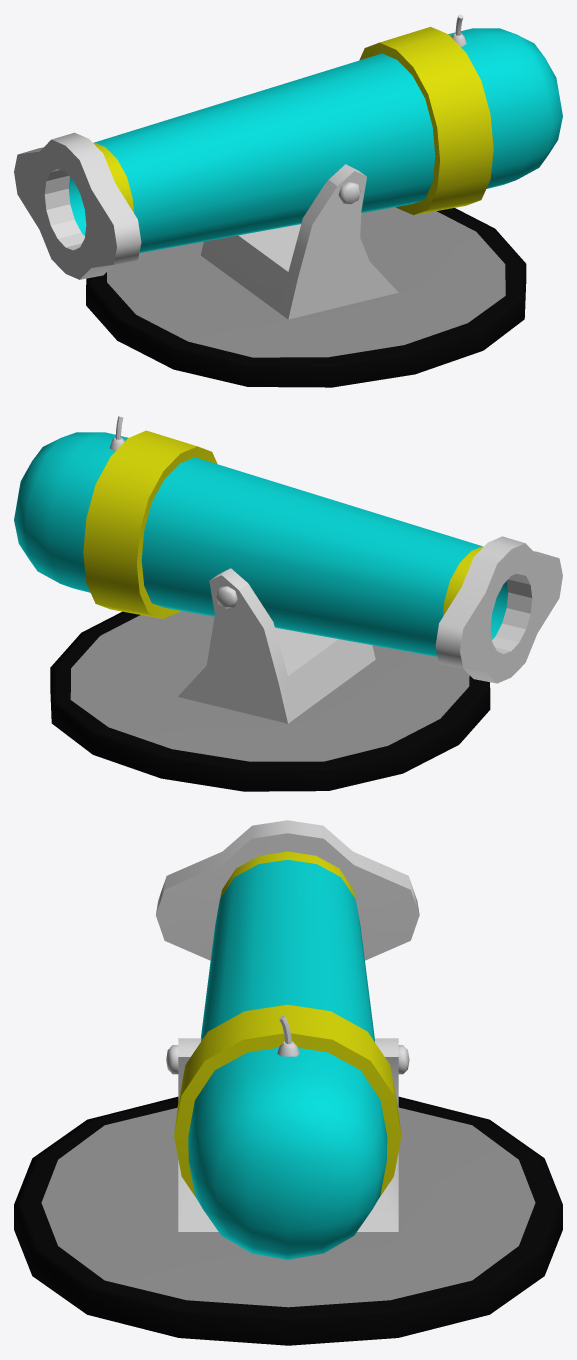
The model's file is GPE_Canon.fbx.
The picture shows the model from 3 angles, top to bottom: view 1: azimuth 30°, elevation 25°; view 2: azimuth 150°, elevation 25°; view 3: azimuth 270°, elevation 25°; orthographic projection. The views are drawn at different scales.
Parts seen in each view (by area): view 1: canon, SOL, FIXATION, chock; view 2: canon, SOL, FIXATION, chock; view 3: SOL, canon, chock, FIXATION.
Boxes of the visible parts, x1,y1,x2,y2 form: canon: (68,26,562,252); SOL: (86,207,526,387); FIXATION: (200,164,398,319); chock: (14,132,141,279); canon: (14,430,508,656); SOL: (50,611,490,791); FIXATION: (178,568,375,723); chock: (435,536,562,683); SOL: (14,1096,562,1345); canon: (174,851,401,1259); chock: (155,820,419,960); FIXATION: (178,1038,398,1231).
Bounding box in the file's own units: 1.69 × 0.8212 × 1.32.
